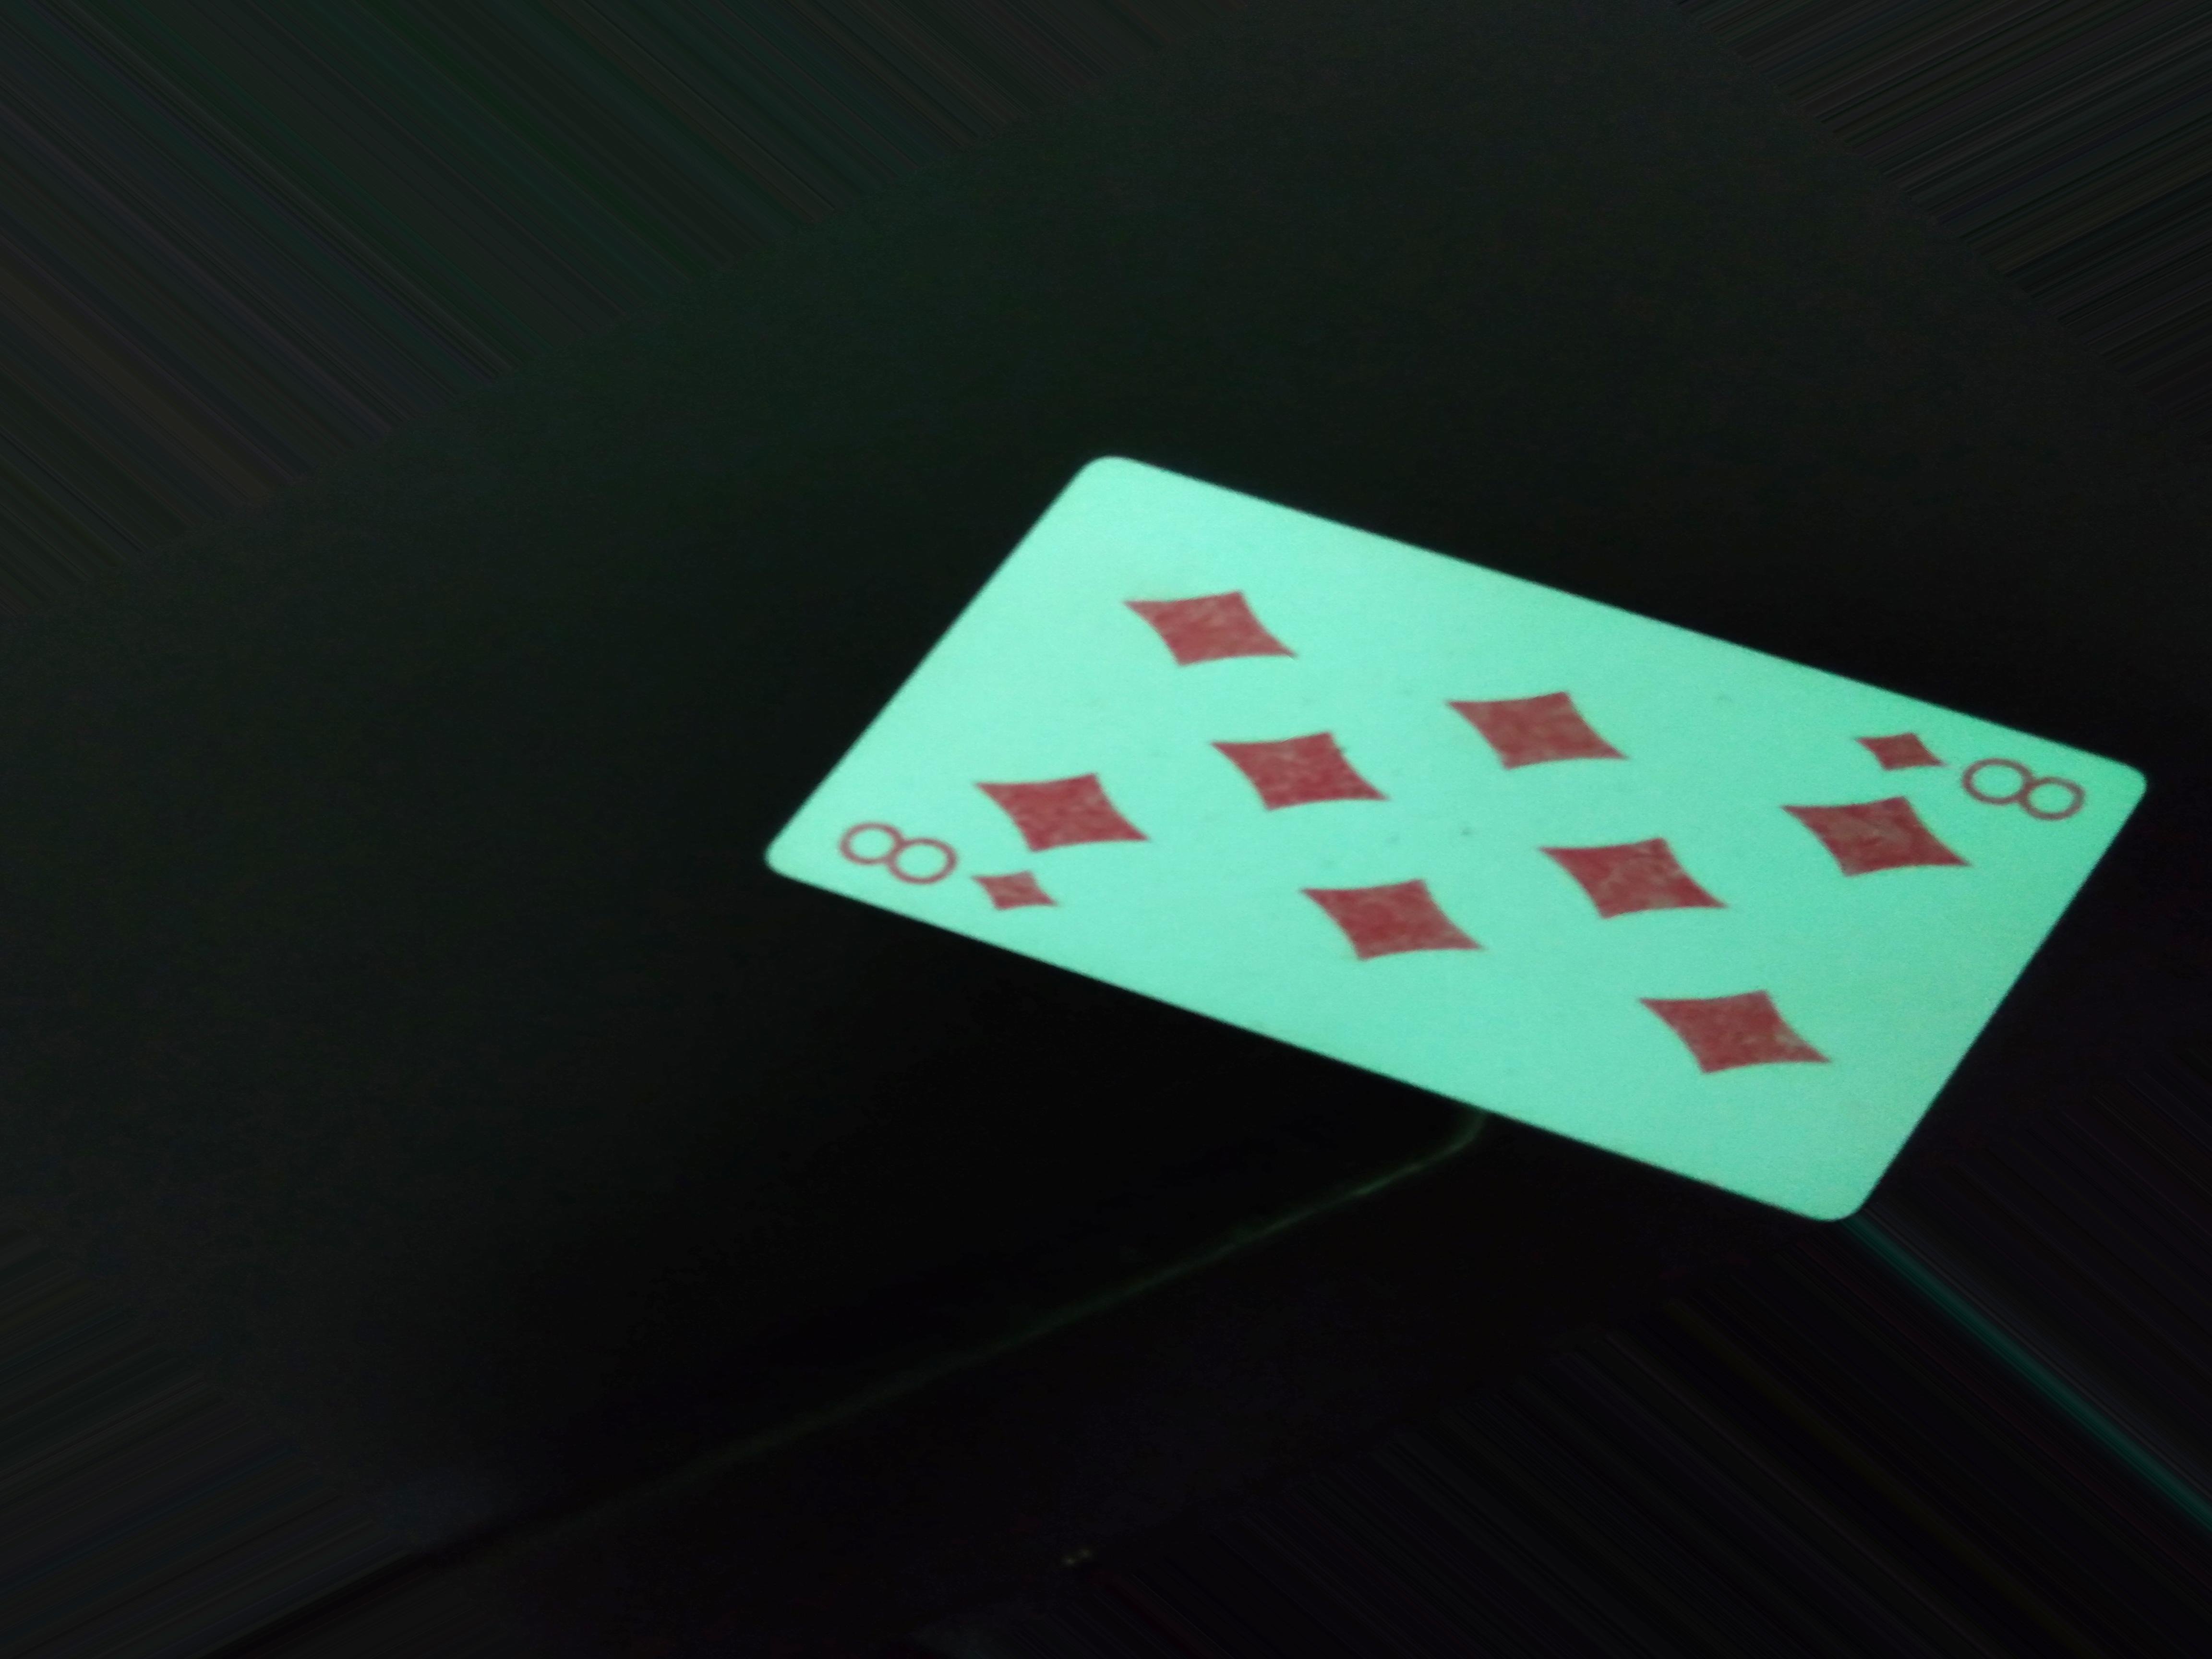8D: (836, 814, 1075, 922)
